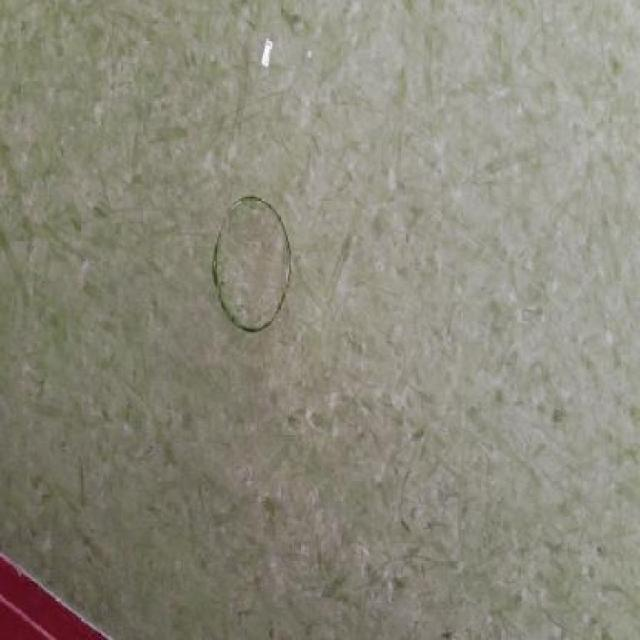Garbage: (260, 37, 273, 68), (308, 50, 312, 59)
